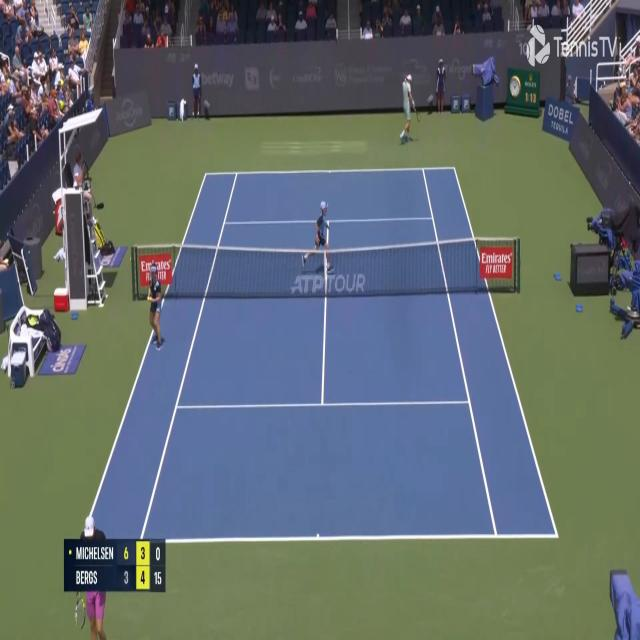tennis-player: (74, 515, 108, 640), (398, 71, 418, 146)
